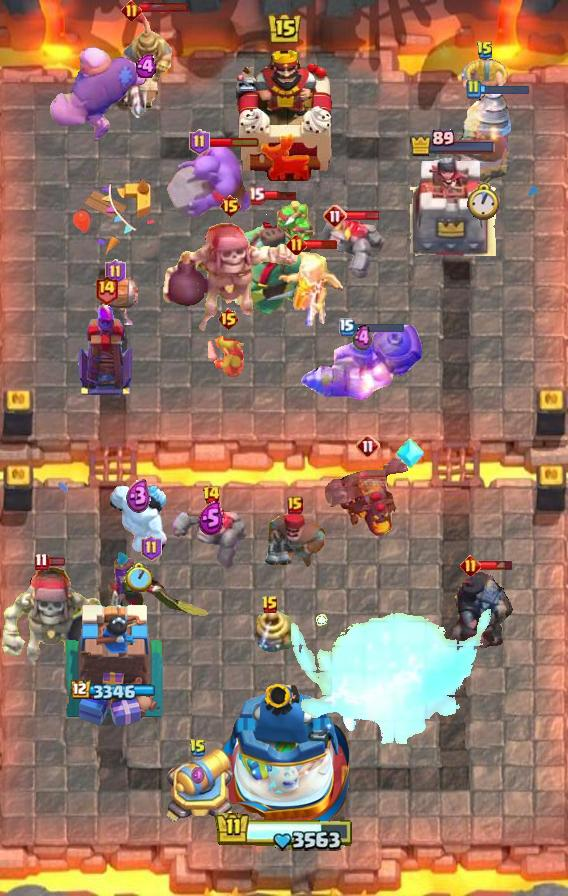archer-evolution: (325, 454, 411, 540)
archer-queen: (163, 141, 259, 221)
balloon: (47, 45, 149, 145)
barbarian-hut: (90, 556, 212, 626)
clock: (215, 811, 353, 852)
electro-giant: (159, 221, 301, 335), (0, 565, 118, 679)
electro-spirit: (198, 501, 224, 535), (126, 478, 151, 513), (352, 323, 372, 352), (135, 55, 159, 78), (191, 766, 206, 785)
elixir: (468, 183, 501, 221), (125, 563, 152, 592)
emote: (353, 321, 405, 334), (208, 136, 261, 148), (478, 83, 530, 95), (139, 3, 189, 14), (262, 190, 298, 202), (478, 559, 513, 571), (344, 210, 380, 221), (304, 238, 338, 249), (47, 556, 66, 567)
goblin-drill: (246, 608, 294, 656)
goblin-giant: (461, 57, 509, 100)
ice-spirit-evolution-symbol: (75, 301, 137, 397)
inferno-dragon: (448, 569, 516, 657)
king-tower: (219, 678, 349, 826), (232, 45, 336, 181)
knight: (91, 277, 139, 325)
lava-hound: (217, 199, 321, 321)
magic-archer: (453, 92, 513, 184)
mega-knight: (269, 596, 491, 770)
pad_2: (396, 436, 424, 470)
phoenix-small: (261, 513, 329, 571)
poison: (269, 246, 353, 330)
queen-tower: (61, 599, 166, 731), (410, 156, 496, 256)
rage: (105, 480, 171, 554)
ram-rider: (117, 12, 177, 122)
royal-recruit: (160, 747, 236, 827)
selected: (409, 129, 497, 157), (70, 680, 157, 702)
text: (94, 275, 119, 306), (323, 204, 347, 228), (356, 434, 380, 458), (219, 194, 242, 218), (216, 307, 239, 331), (190, 129, 211, 155), (105, 259, 126, 285), (142, 535, 163, 561), (286, 233, 307, 254), (460, 555, 481, 576), (121, 0, 142, 20), (202, 485, 221, 505), (476, 40, 494, 60), (261, 595, 279, 615), (189, 738, 207, 758), (465, 79, 481, 99), (247, 187, 264, 205), (339, 318, 355, 336), (287, 496, 303, 514), (35, 553, 50, 571)
valkyrie-evolution: (172, 506, 250, 570), (321, 220, 385, 280)
wizard: (300, 323, 424, 401)
zap: (206, 335, 250, 379)
